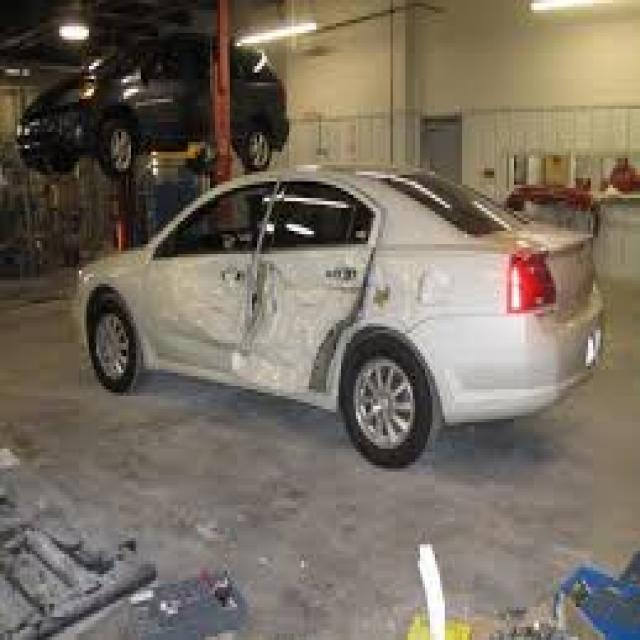moderate: (191, 225, 394, 386)
